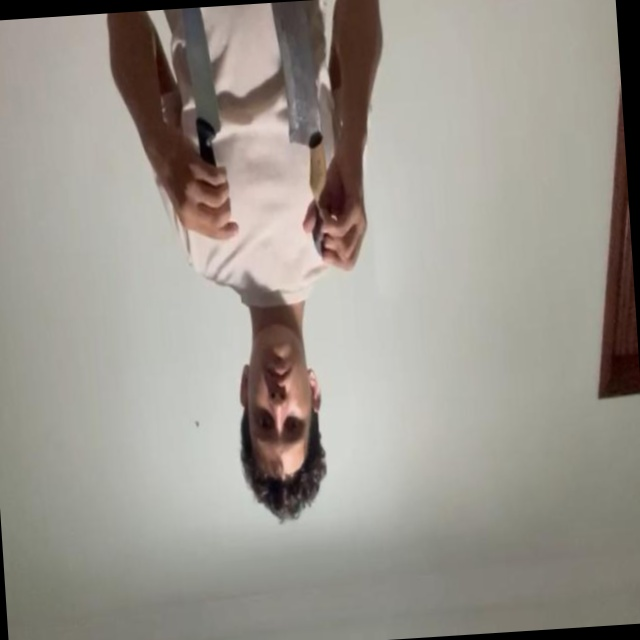Sharp-Object: (272, 0, 323, 146), (184, 7, 223, 136)
